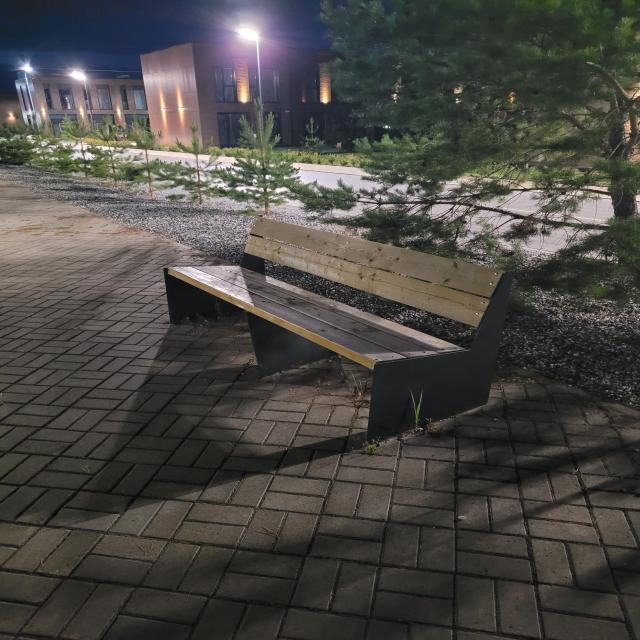Bench: (164, 215, 516, 444)
